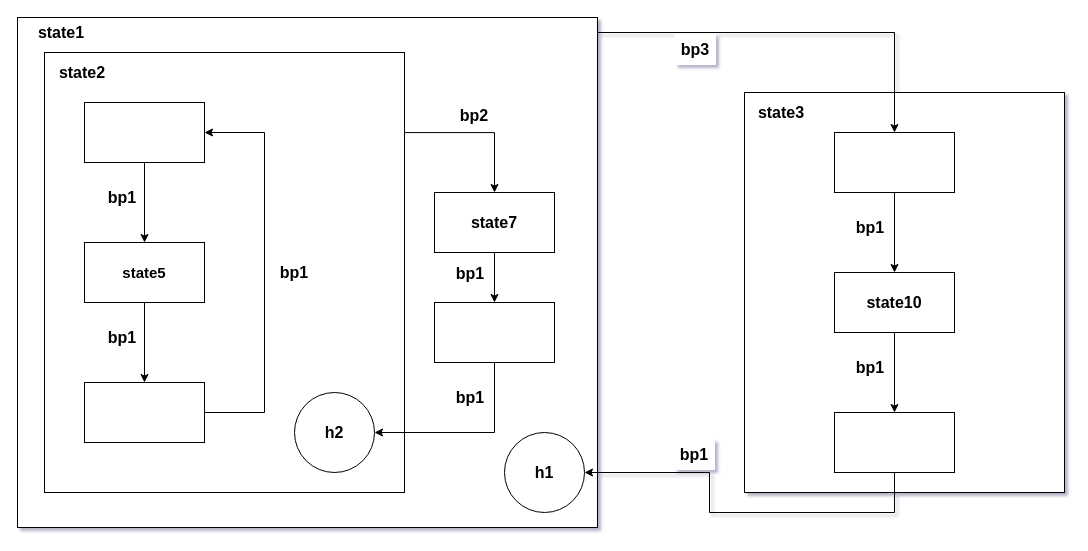
The diagram is 1088 pixels wide and 551 high, and some of its shapes have lost their labels. The centre of each missing label's shape, as x and y in pixels:
"state11" belongs at (x=894, y=442).
"state4" belongs at (x=144, y=132).
"state6" belongs at (x=144, y=412).
"state8" belongs at (x=494, y=332).
"state9" belongs at (x=894, y=162).
